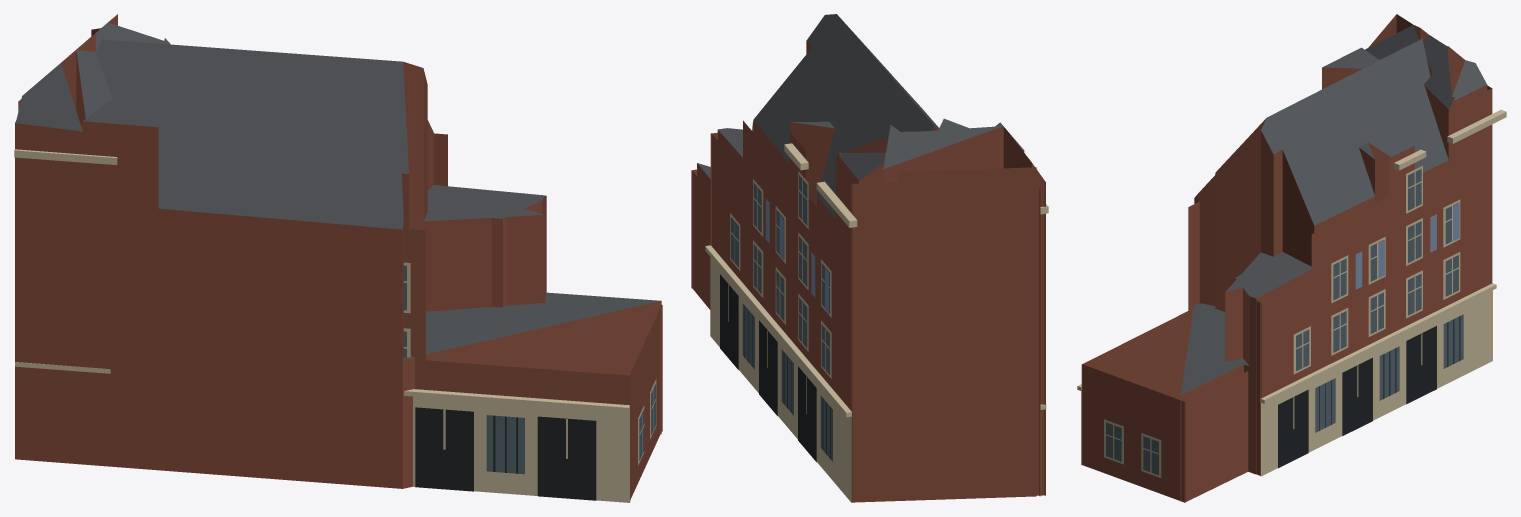
The model's file is west-indian-warehouse.glb.
3 views of the same model, side by side, from view 1: azimuth 30°, elevation 25°; view 2: azimuth 150°, elevation 25°; view 3: azimuth 270°, elevation 25° (orthographic). The views are drawn at different scales.
Visible parts, largest first — view 1: west-indian-warehouse; view 2: west-indian-warehouse; view 3: west-indian-warehouse.
Part boxes in pixels (x1=…): west-indian-warehouse: x1=14, y1=14, x2=662, y2=502; west-indian-warehouse: x1=691, y1=14, x2=1048, y2=502; west-indian-warehouse: x1=1077, y1=14, x2=1506, y2=502.
Size of the model in its own units: 22.99 by 16.71 by 20.79.
